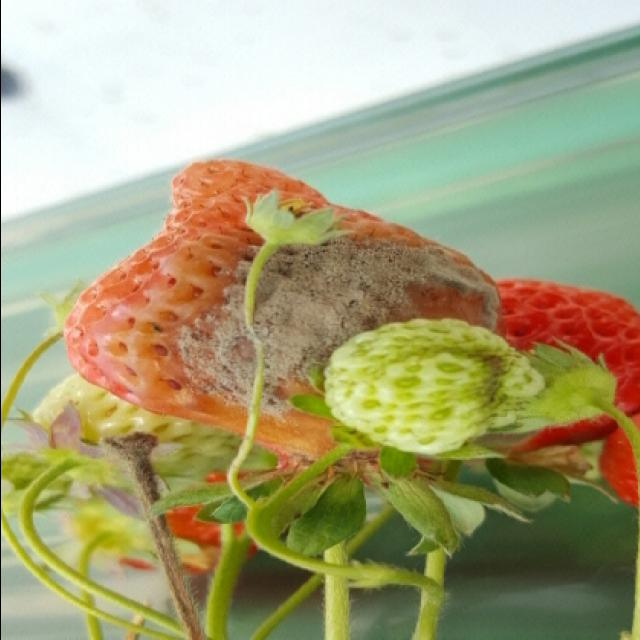Gray Mold: (99, 203, 500, 458)
